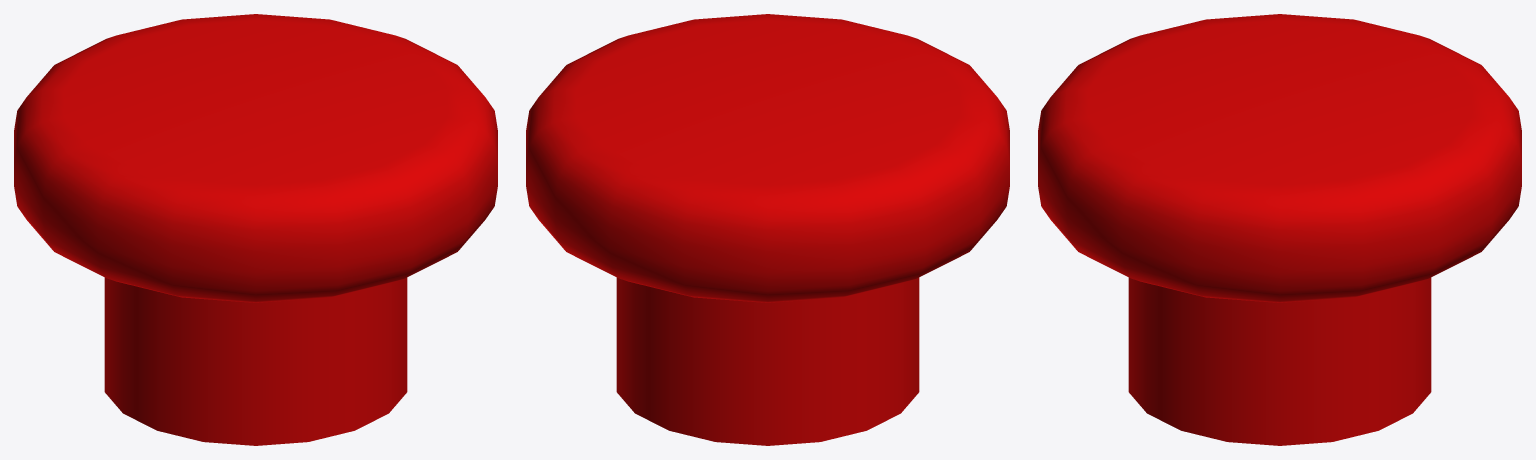
File: ButtonHead.fbx
3 views of the same model, side by side, from view 1: azimuth 30°, elevation 25°; view 2: azimuth 150°, elevation 25°; view 3: azimuth 270°, elevation 25° (orthographic).
Parts seen in each view (by area): view 1: ButtonHead; view 2: ButtonHead; view 3: ButtonHead.
Boxes of the visible parts, x1=… form: ButtonHead: x1=14, y1=14, x2=497, y2=445; ButtonHead: x1=526, y1=14, x2=1009, y2=445; ButtonHead: x1=1038, y1=14, x2=1521, y2=445.
Bounding box in the file's own units: 0.4 × 0.25 × 0.3939.
